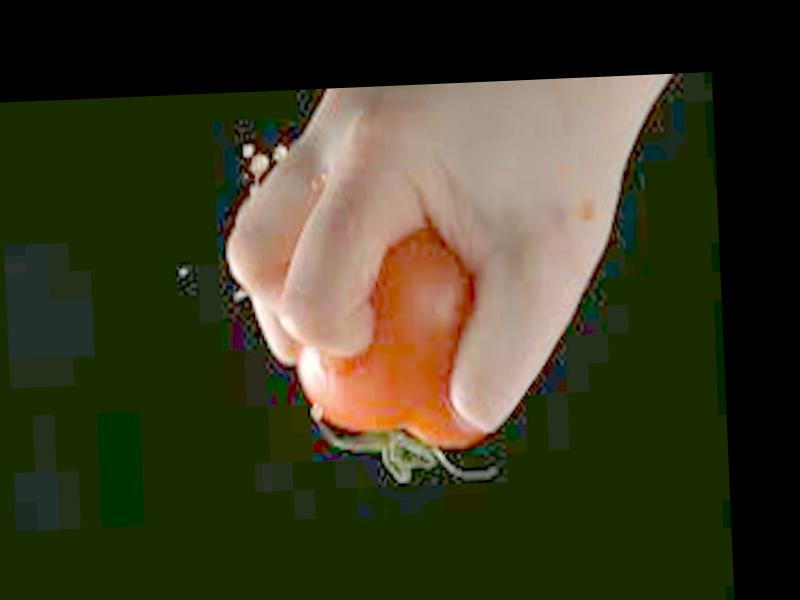Tomato: (293, 228, 487, 453)
